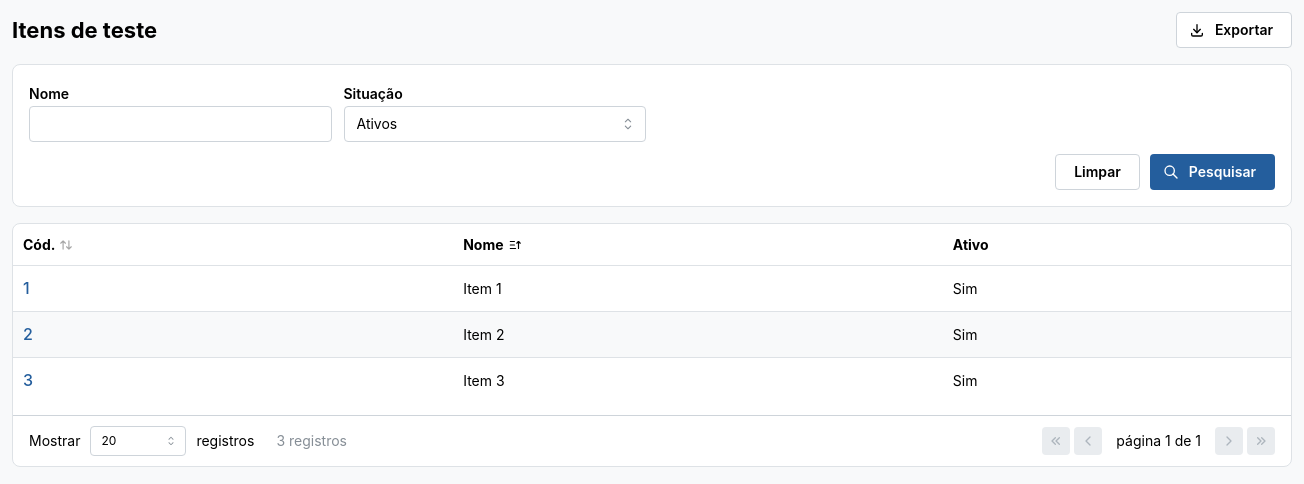
<Listagem> › sem a função de exportação ou sem permissão, não há Exportar; erro da exportação vira aviso
Expected: the text "Item 1" is shown, [453,266,943,312]
Click the button "Exportar".
click(1234, 30)  # box [1176,12,1292,48]
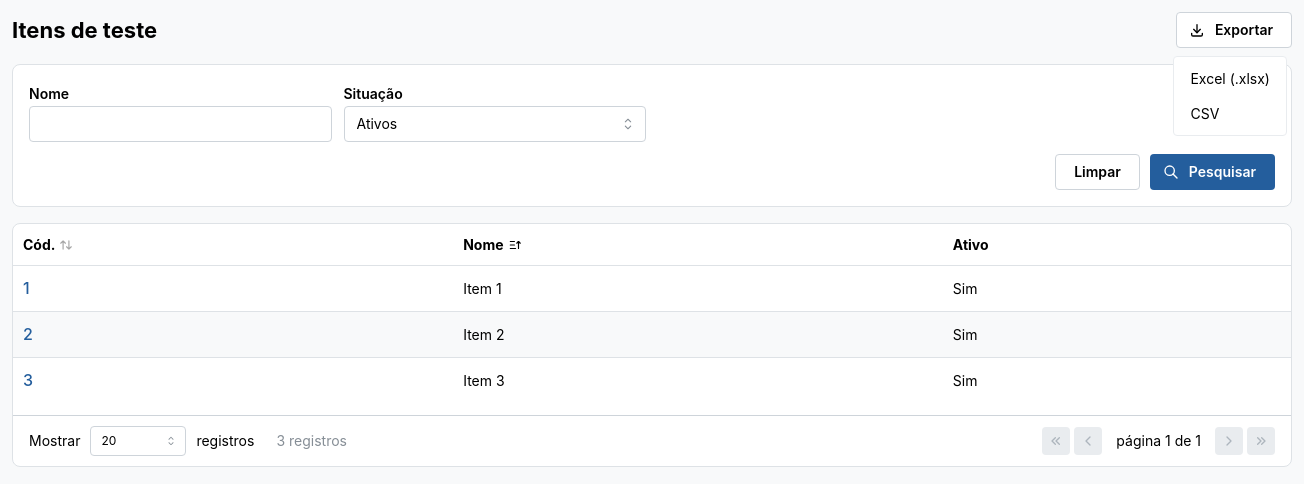
Click the menu item "Excel (.xlsx)".
click(1230, 78)  # box [1178,61,1282,96]
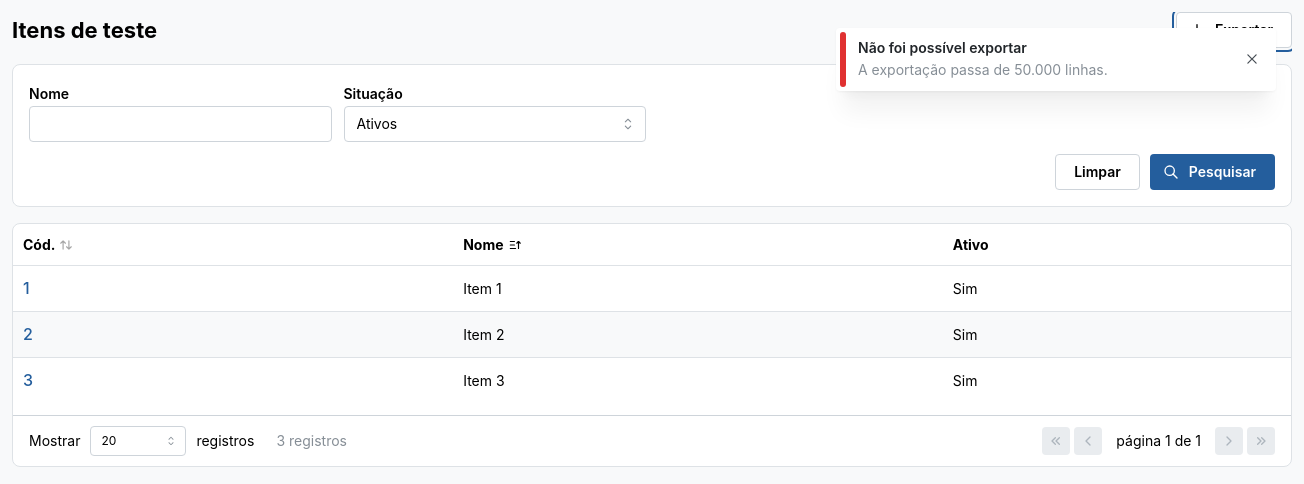
Expected: the text "A exportação passa de 50.000 linhas." is shown, [858,61,1108,78]
